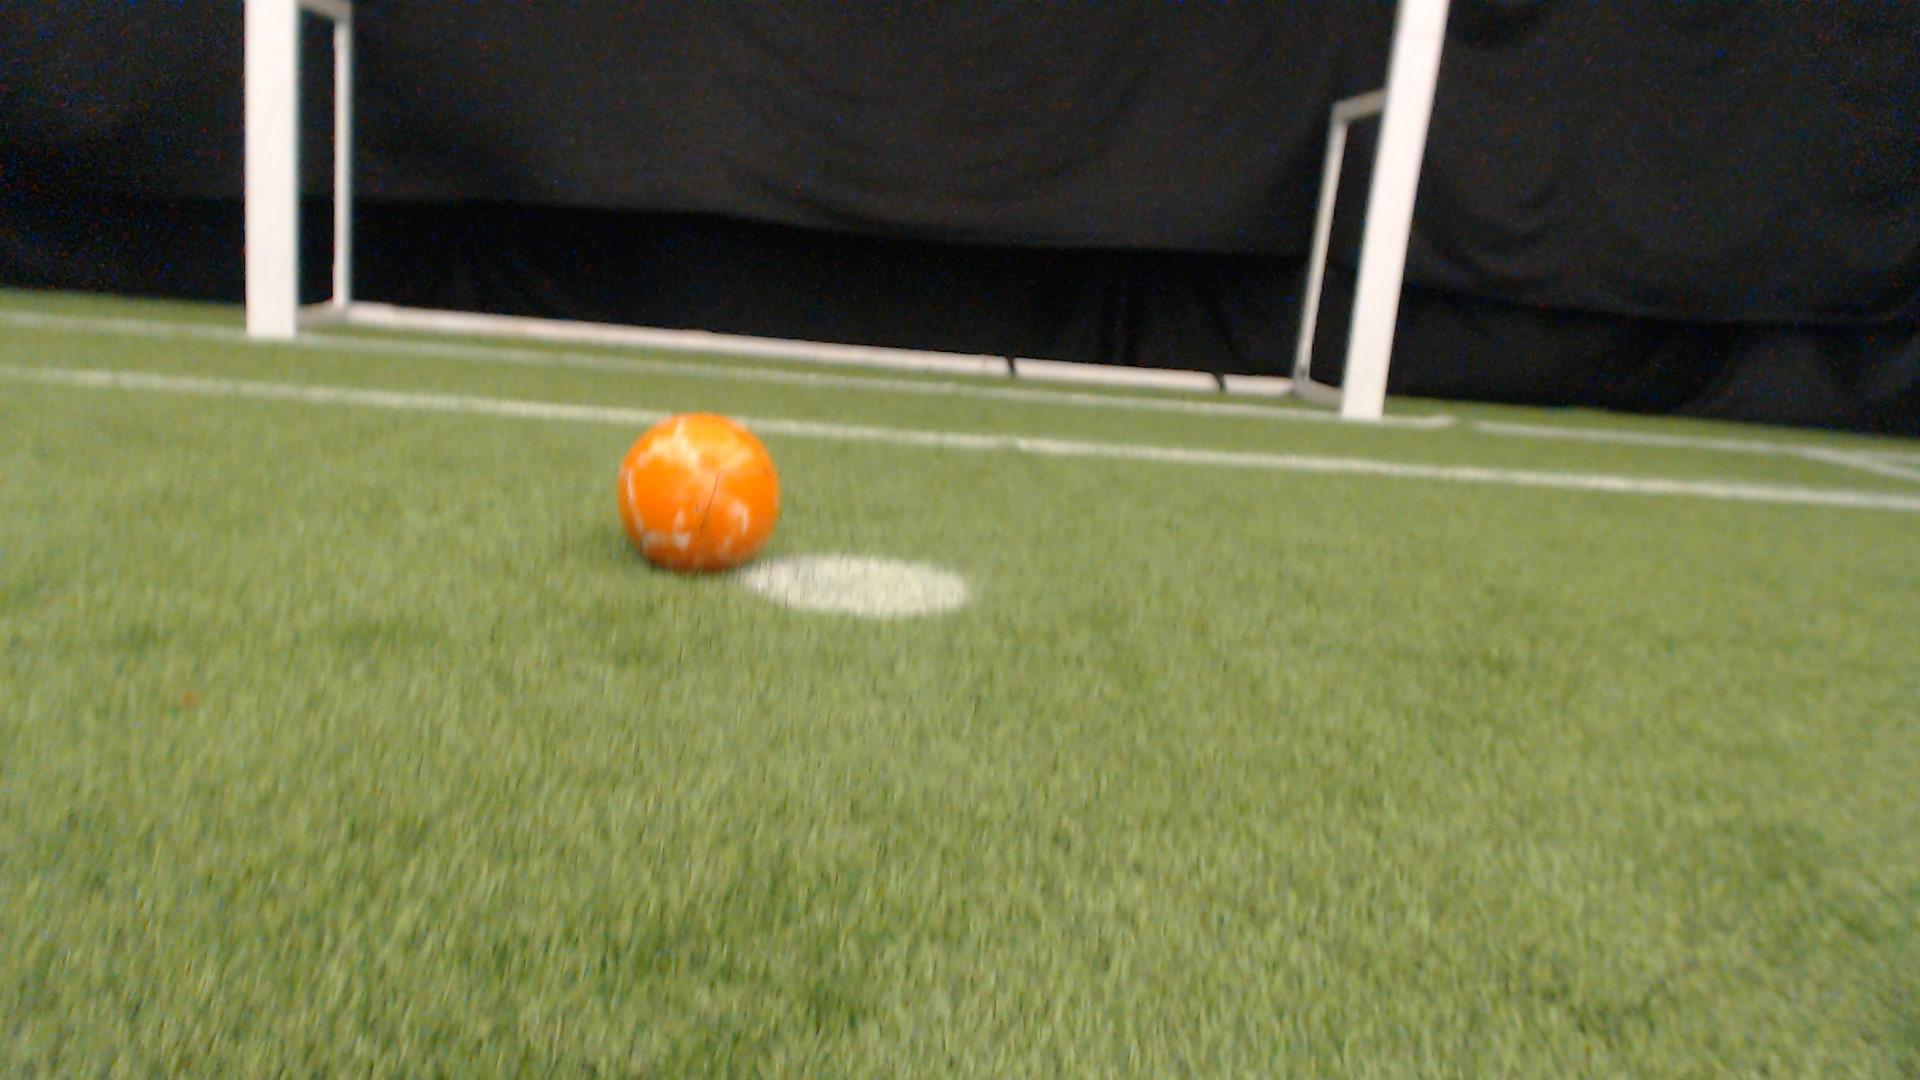bola: (601, 392, 796, 584)
